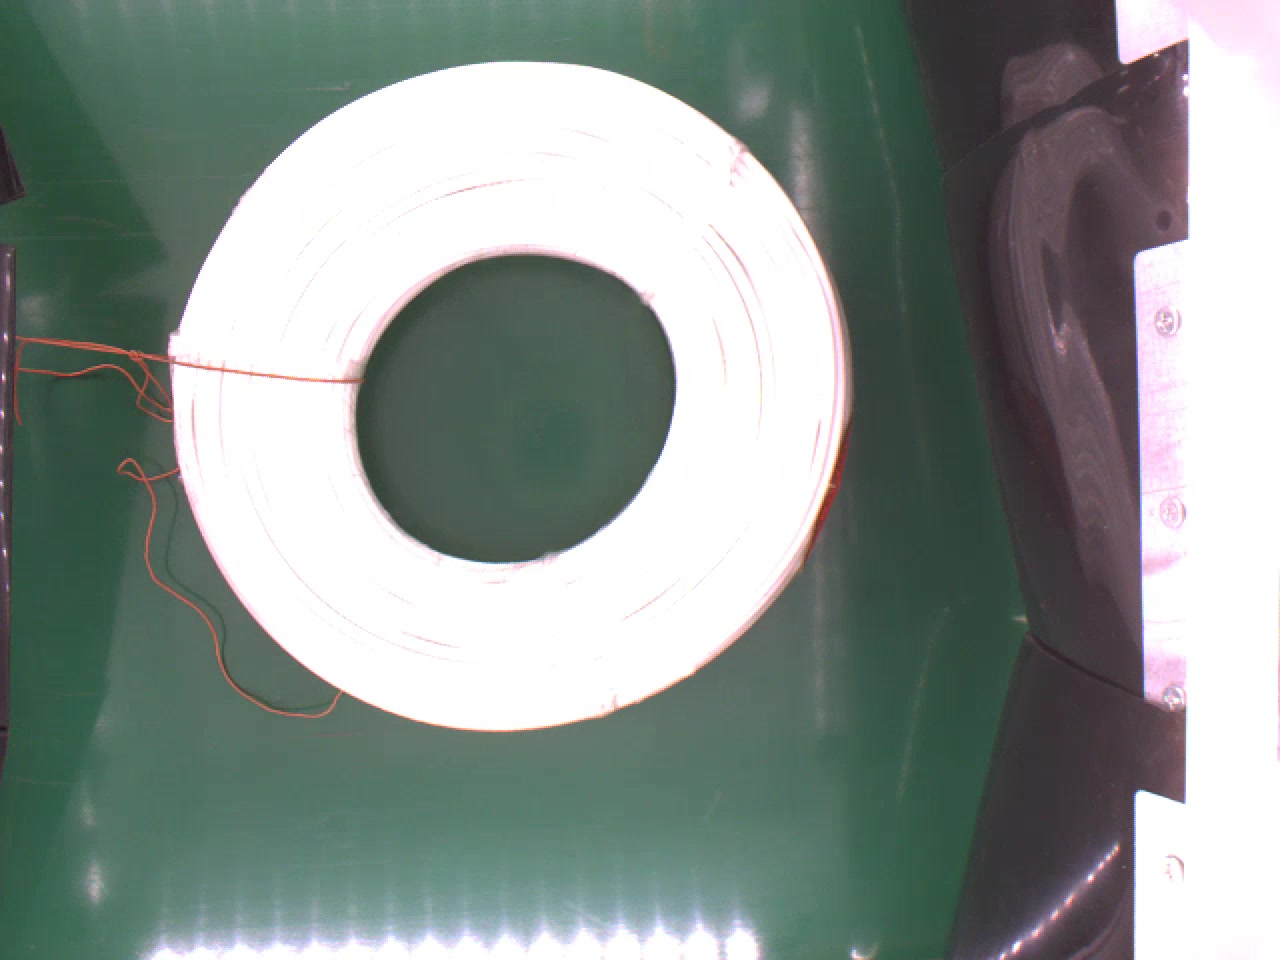white: (161, 54, 871, 726)
